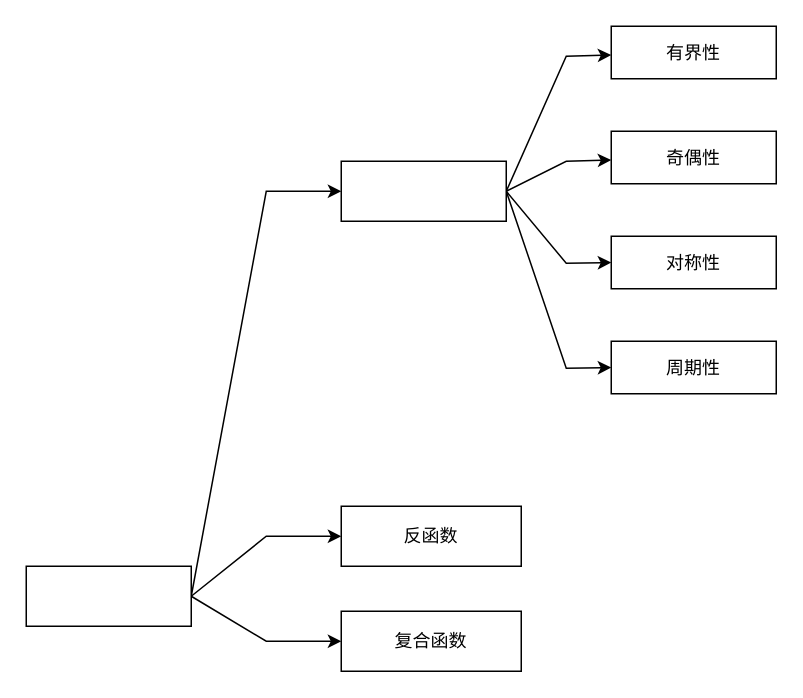
This 803x698 diagram has some shape labels left out. The centre of each missing label's shape, as x and y in pixels:
函数: point 108,595
函数的性质: point 423,190
